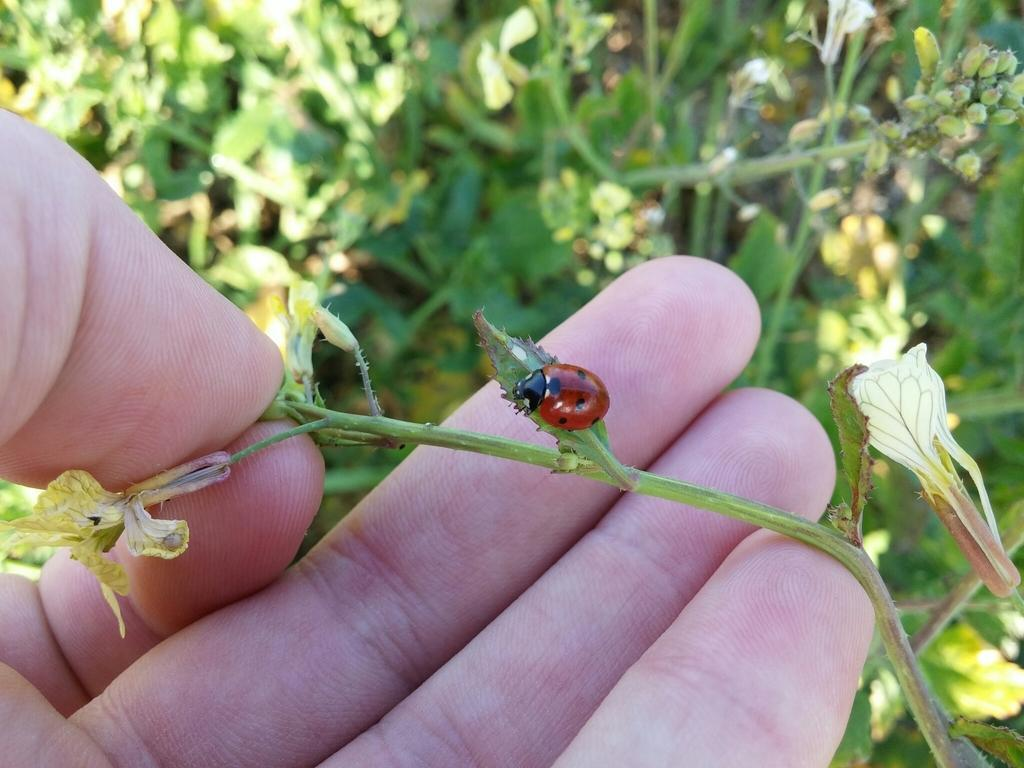ladybug: (509, 361, 615, 435)
